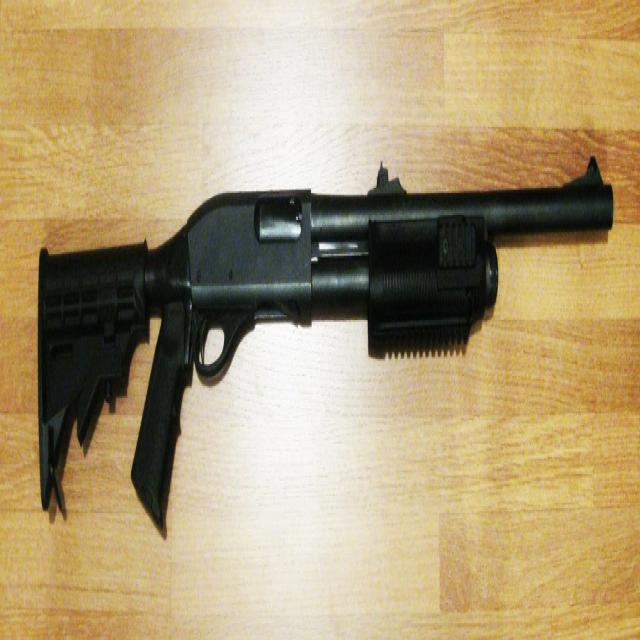firearm: (35, 142, 616, 552)
